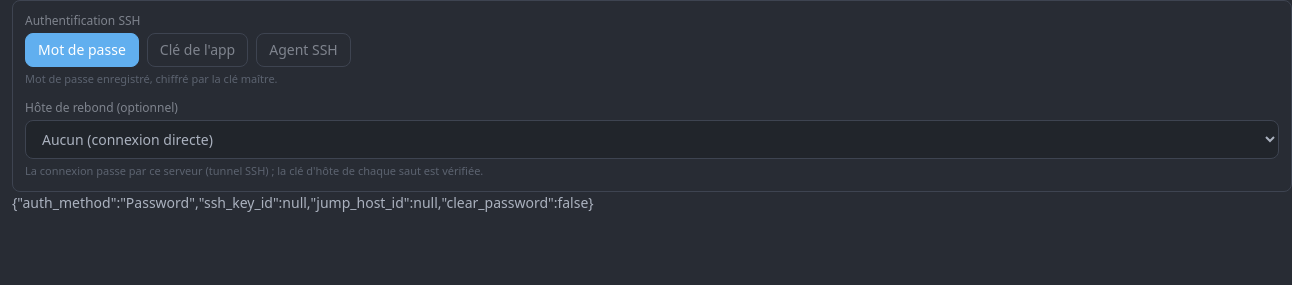
ServerAuthFields › choisir « clé de l'app » sans clé enregistrée affiche un avertissement
Click the radio button labelled "Clé de l'app" at (198, 50), box [147, 33, 248, 67]
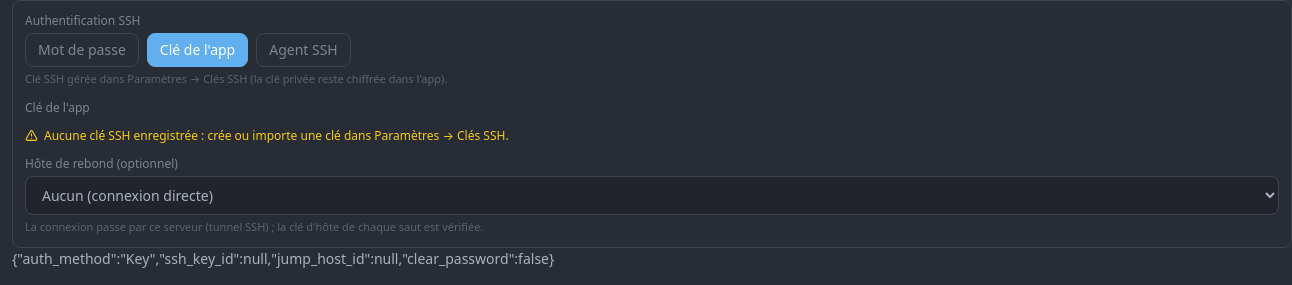
Now the message shows "Aucune clé SSH enregistrée", box [44, 126, 509, 144]
